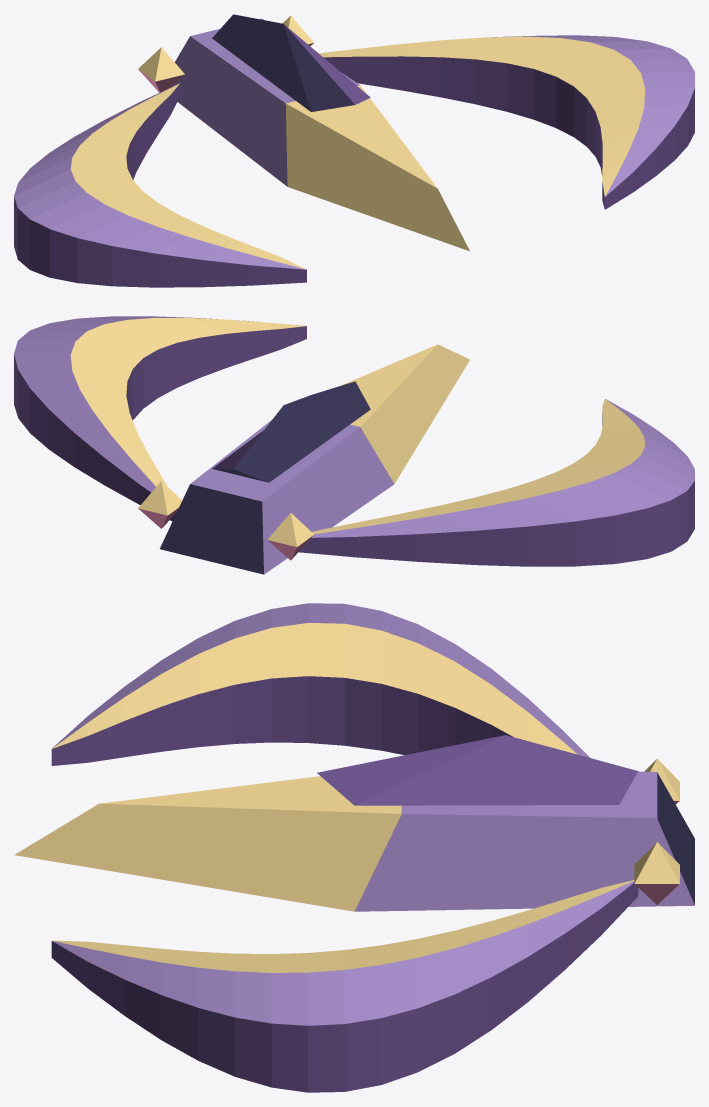
File: crescent.glb
The picture shows the model from 3 angles, top to bottom: view 1: azimuth 30°, elevation 25°; view 2: azimuth 150°, elevation 25°; view 3: azimuth 270°, elevation 25°; orthographic projection. The views are drawn at different scales.
Parts seen in each view (by area): view 1: Wing.R, Wing.L, Hull, Canopy, Engine crystal -0.52; view 2: Wing.L, Wing.R, Hull, Canopy, Engine crystal -0.52, Engine crystal 0.52; view 3: Hull, Wing.R, Wing.L, Canopy, Engine crystal 0.52.
Part boxes in pixels (bbox=[...]): Wing.R: bbox=[319, 35, 694, 209]; Wing.L: bbox=[14, 83, 306, 287]; Hull: bbox=[170, 18, 469, 251]; Canopy: bbox=[212, 14, 370, 111]; Engine crystal -0.52: bbox=[138, 47, 184, 92]; Wing.L: bbox=[299, 399, 694, 566]; Wing.R: bbox=[14, 316, 306, 521]; Hull: bbox=[160, 344, 469, 574]; Canopy: bbox=[212, 381, 370, 482]; Engine crystal -0.52: bbox=[267, 513, 314, 560]; Engine crystal 0.52: bbox=[138, 481, 182, 528]; Hull: bbox=[14, 771, 694, 911]; Wing.R: bbox=[51, 880, 638, 1092]; Wing.L: bbox=[51, 603, 589, 765]; Canopy: bbox=[317, 735, 637, 805]; Engine crystal 0.52: bbox=[634, 842, 679, 904].
Size of the model in its own units: 5.29 by 0.856 by 3.6.
